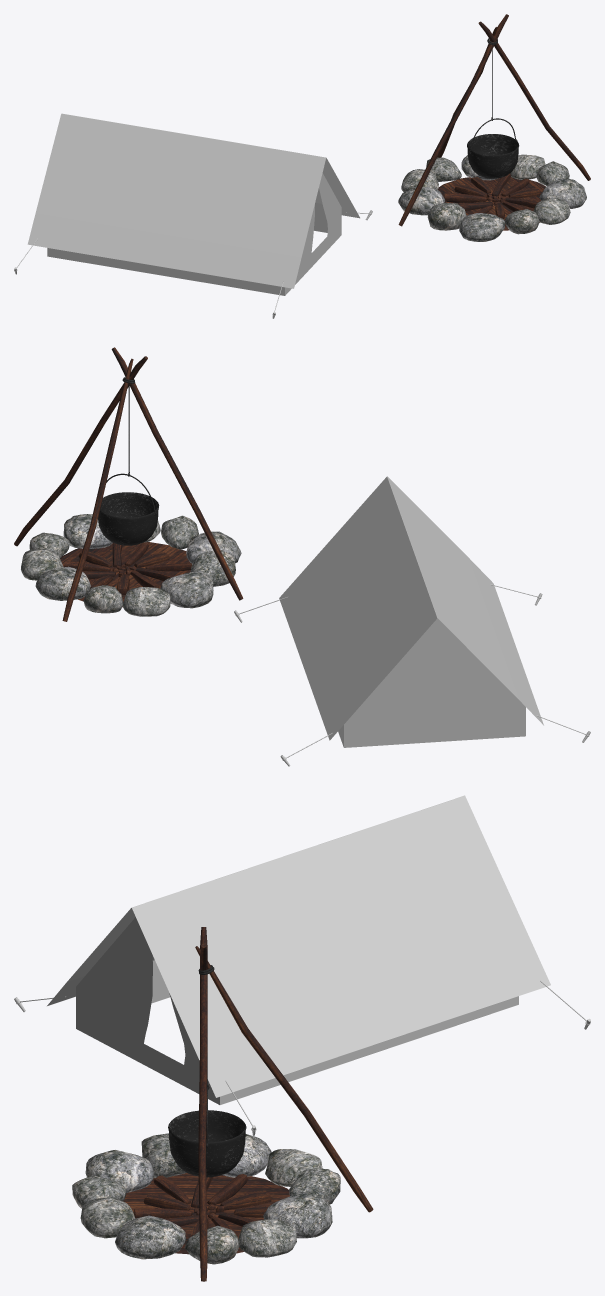
The picture shows the model from 3 angles, top to bottom: view 1: azimuth 30°, elevation 25°; view 2: azimuth 150°, elevation 25°; view 3: azimuth 270°, elevation 25°; orthographic projection. The views are drawn at different scales.
Visible parts, largest first — view 1: camp Camp Camp_Fire, Camp_Fire Fire_Woods Rocks, Camp_Fire woods_and_ground Fire_Woods, Camp_Fire Fire_Woods utensil_and_rope; view 2: camp Camp Camp_Fire, Camp_Fire Fire_Woods Rocks, Camp_Fire woods_and_ground Fire_Woods, Camp_Fire Fire_Woods utensil_and_rope; view 3: camp Camp Camp_Fire, Camp_Fire Fire_Woods Rocks, Camp_Fire woods_and_ground Fire_Woods, Camp_Fire Fire_Woods utensil_and_rope.
Boxes of the visible parts, x1,y1,x2,y2 form: camp Camp Camp_Fire: [27, 113, 359, 295]; Camp_Fire Fire_Woods Rocks: [398, 154, 586, 241]; Camp_Fire woods_and_ground Fire_Woods: [398, 14, 590, 230]; Camp_Fire Fire_Woods utensil_and_rope: [467, 38, 519, 178]; camp Camp Camp_Fire: [279, 476, 543, 747]; Camp_Fire Fire_Woods Rocks: [21, 514, 241, 616]; Camp_Fire woods_and_ground Fire_Woods: [14, 347, 243, 621]; Camp_Fire Fire_Woods utensil_and_rope: [98, 377, 159, 545]; camp Camp Camp_Fire: [47, 795, 550, 1104]; Camp_Fire Fire_Woods Rocks: [72, 1133, 340, 1264]; Camp_Fire woods_and_ground Fire_Woods: [123, 927, 373, 1281]; Camp_Fire Fire_Woods utensil_and_rope: [168, 965, 246, 1177].
Bounding box in the file's own units: 67.85 × 23.37 × 42.77.
